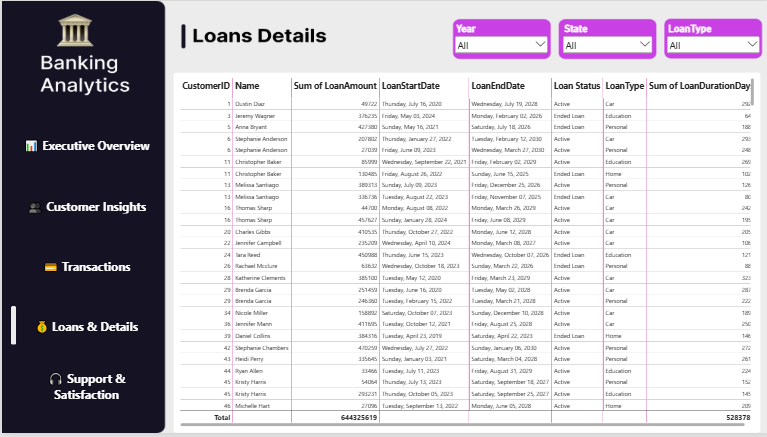

This screenshot's page, from the dashboard's own definition file:
{"tool":"powerbi","page":{"name":"Loan_details_page ","canvas":[1920,1080],"ordinal":4},"visuals":[{"type":"shape","box":[34.3,285.7,352.9,150],"z":0},{"type":"shape","box":[34.3,437.1,352.9,150],"z":1},{"type":"shape","box":[34.3,587.1,352.9,150],"z":2},{"type":"shape","box":[34.3,737.1,352.9,150],"z":3},{"type":"shape","box":[34.3,887.1,352.9,150],"z":4},{"type":"shape","box":[21.7,761.7,12.9,97.1],"z":5},{"type":"tableEx","fields":{"Values":["Loans.CustomerID","customers.Name","Sum(Loans.LoanAmount)","Loans.LoanStartDate","Loans.LoanEndDate","Loans.Loan Status","Loans.LoanType","Sum(Loans.LoanDurationDays)"]},"box":[428.3,176.7,1470,903.3],"z":6},{"type":"slicer","fields":{"Values":["Accounts.CreatedDate.Variation.Date Hierarchy.Year"]},"box":[1128.2,51.8,241.2,90],"z":7},{"type":"slicer","fields":{"Values":["customers.State"]},"box":[1397.5,52.5,232.5,90],"z":8},{"type":"slicer","fields":{"Values":["Loans.LoanType"]},"box":[1657.3,51.8,241.2,90],"z":9}]}

Visuals, with their boxes on the page's 1920x1080 design canvas (x1, y1, x2, y2). These are canvas units, not pixel positions in the 767x437 screenshot, which may show the page scaled, cropped or inside an application window:
shape: [left=34, top=286, right=387, bottom=436]
shape: [left=34, top=437, right=387, bottom=587]
shape: [left=34, top=587, right=387, bottom=737]
shape: [left=34, top=737, right=387, bottom=887]
shape: [left=34, top=887, right=387, bottom=1037]
shape: [left=22, top=762, right=35, bottom=859]
tableEx - Loans.CustomerID x customers.Name: [left=428, top=177, right=1898, bottom=1080]
slicer - Accounts.CreatedDate.Variation.Date Hierarchy.Year: [left=1128, top=52, right=1369, bottom=142]
slicer - customers.State: [left=1398, top=52, right=1630, bottom=142]
slicer - Loans.LoanType: [left=1657, top=52, right=1898, bottom=142]
